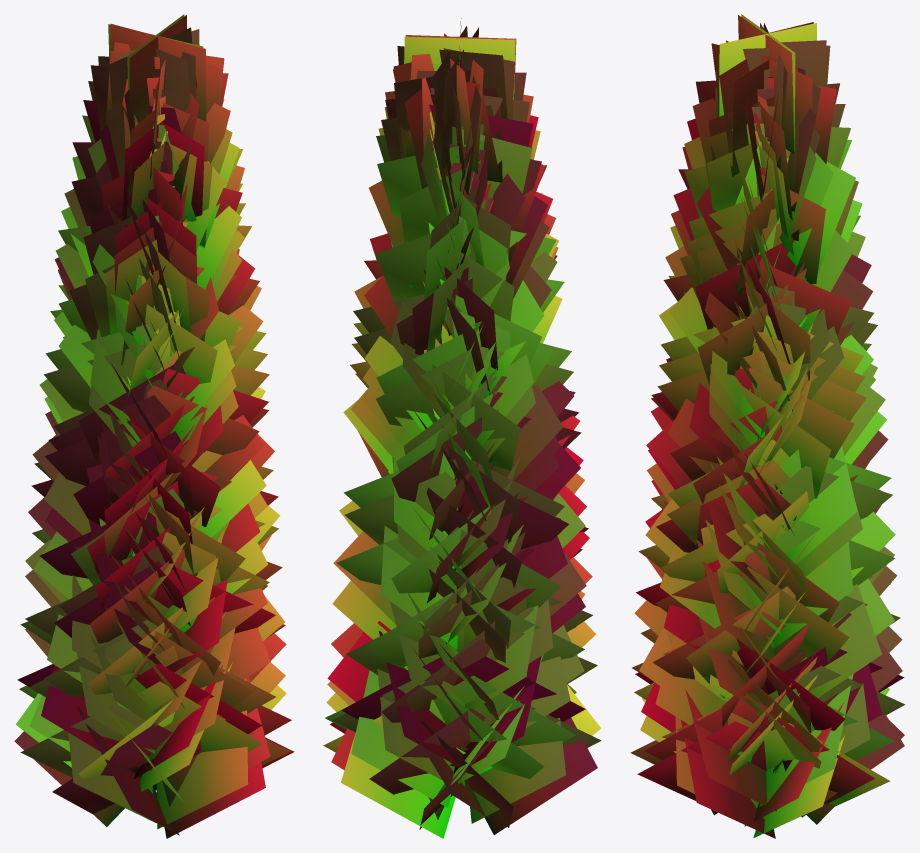
Rendered from URP_P4_Tree_8_LOD_2.fbx.
The picture shows the model from 3 angles, left to right: view 1: azimuth 30°, elevation 25°; view 2: azimuth 150°, elevation 25°; view 3: azimuth 270°, elevation 25°; orthographic projection.
Parts seen in each view (by area): view 1: Tree_8_LOD_2; view 2: Tree_8_LOD_2; view 3: Tree_8_LOD_2.
Boxes of the visible parts, x1,y1,x2,y2 form: Tree_8_LOD_2: (14,14,294,838); Tree_8_LOD_2: (323,18,601,838); Tree_8_LOD_2: (630,14,905,838).
Bounding box in the file's own units: 210 × 662 × 210.
